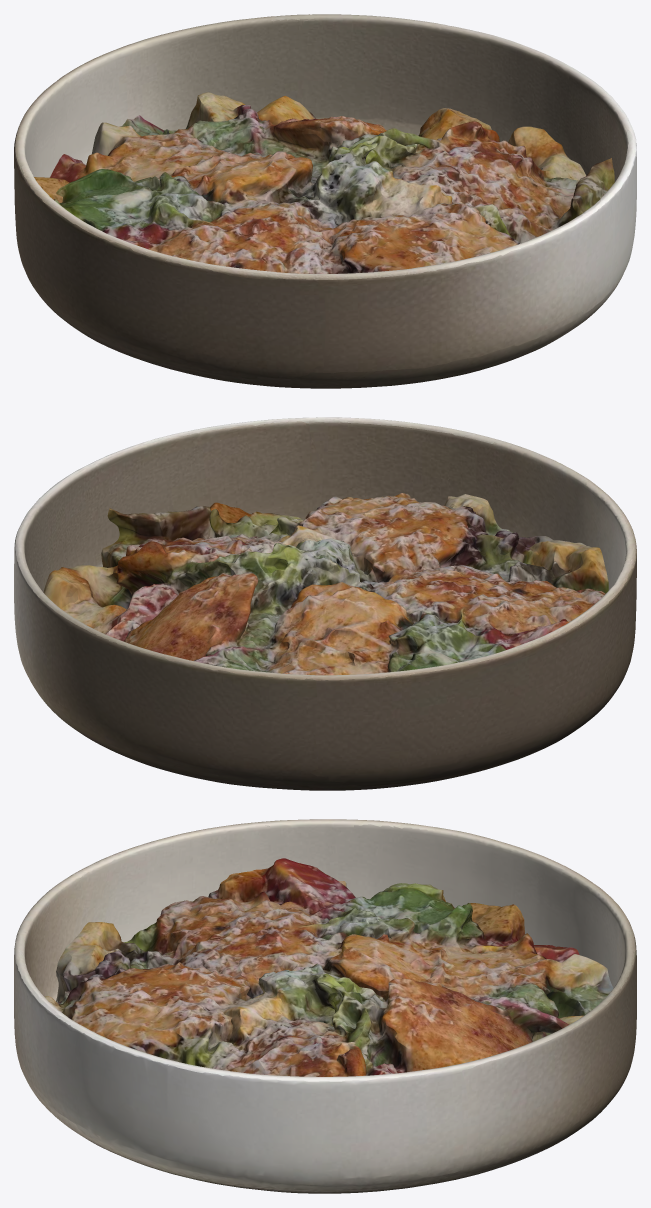
The model's file is set.Caeser.chicken.001.glb.
3 views of the same model, one above another, from view 1: azimuth 30°, elevation 25°; view 2: azimuth 150°, elevation 25°; view 3: azimuth 270°, elevation 25° (orthographic).
Parts seen in each view (by area): view 1: /Root/Scenes/Scene/Object_52/Object_54/Object_55/Submesh_0, /Root/Scenes/Scene/Object_52/Object_53/Submesh_0; view 2: /Root/Scenes/Scene/Object_52/Object_54/Object_55/Submesh_0, /Root/Scenes/Scene/Object_52/Object_53/Submesh_0; view 3: /Root/Scenes/Scene/Object_52/Object_54/Object_55/Submesh_0, /Root/Scenes/Scene/Object_52/Object_53/Submesh_0.
Part boxes in pixels (x1,y1,x2,y2): /Root/Scenes/Scene/Object_52/Object_54/Object_55/Submesh_0: [14, 14, 636, 388]; /Root/Scenes/Scene/Object_52/Object_53/Submesh_0: [34, 92, 614, 273]; /Root/Scenes/Scene/Object_52/Object_54/Object_55/Submesh_0: [14, 417, 636, 790]; /Root/Scenes/Scene/Object_52/Object_53/Submesh_0: [43, 493, 608, 675]; /Root/Scenes/Scene/Object_52/Object_54/Object_55/Submesh_0: [14, 819, 636, 1193]; /Root/Scenes/Scene/Object_52/Object_53/Submesh_0: [44, 858, 613, 1076].
Bounding box in the file's own units: 0.2083 × 0.0491 × 0.2082.
Materials: 2 (2 with a texture image).
